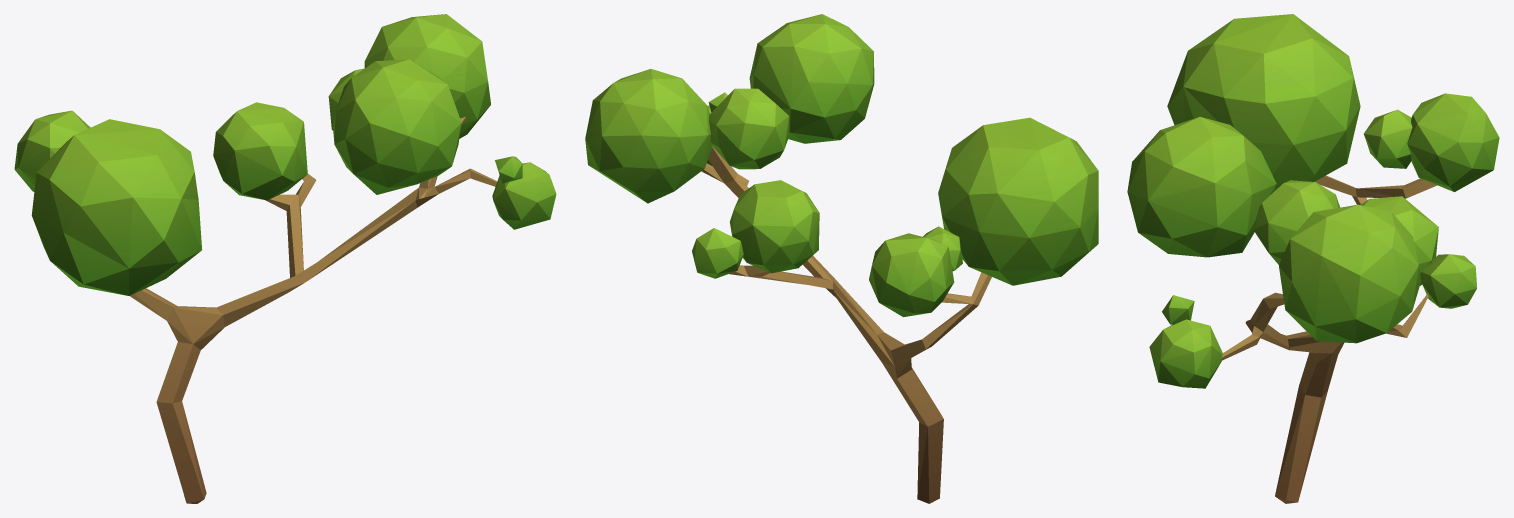
Rendered from bonsai.glb.
3 renders of one model, left to right at view 1: azimuth 30°, elevation 25°; view 2: azimuth 150°, elevation 25°; view 3: azimuth 270°, elevation 25°, orthographic. The views are drawn at different scales.
Size of the model in its own units: 2.94 by 2.52 by 1.83.
Materials: 1 (1 with a texture image).
